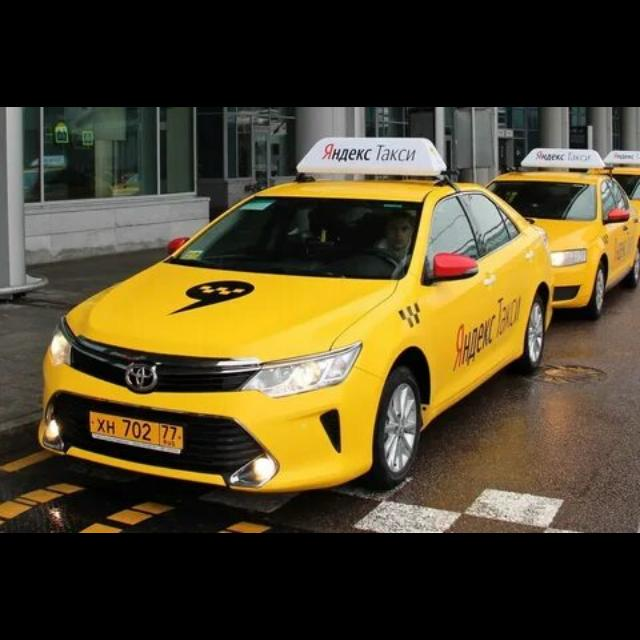taxi: (37, 136, 557, 504), (483, 147, 640, 320)
